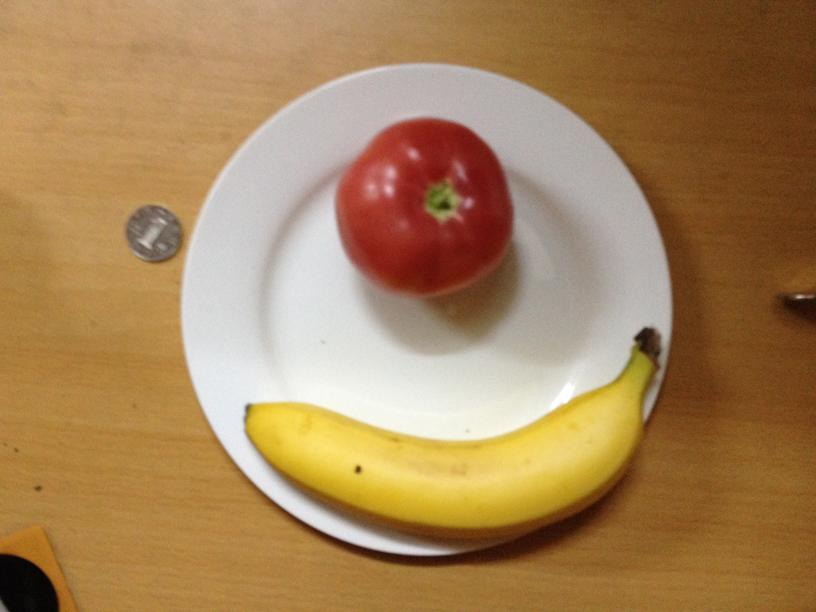banana: (247, 352, 653, 540)
coin: (122, 204, 182, 261)
tomato: (344, 114, 512, 294)
